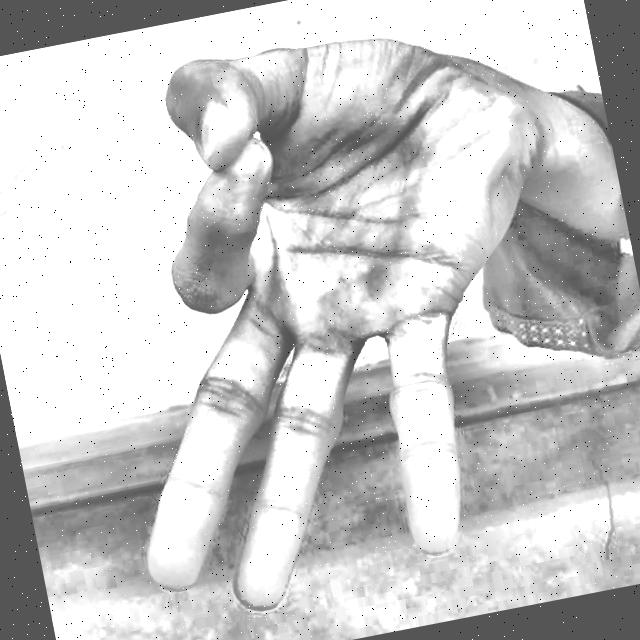Fa: (17, 0, 640, 640)
